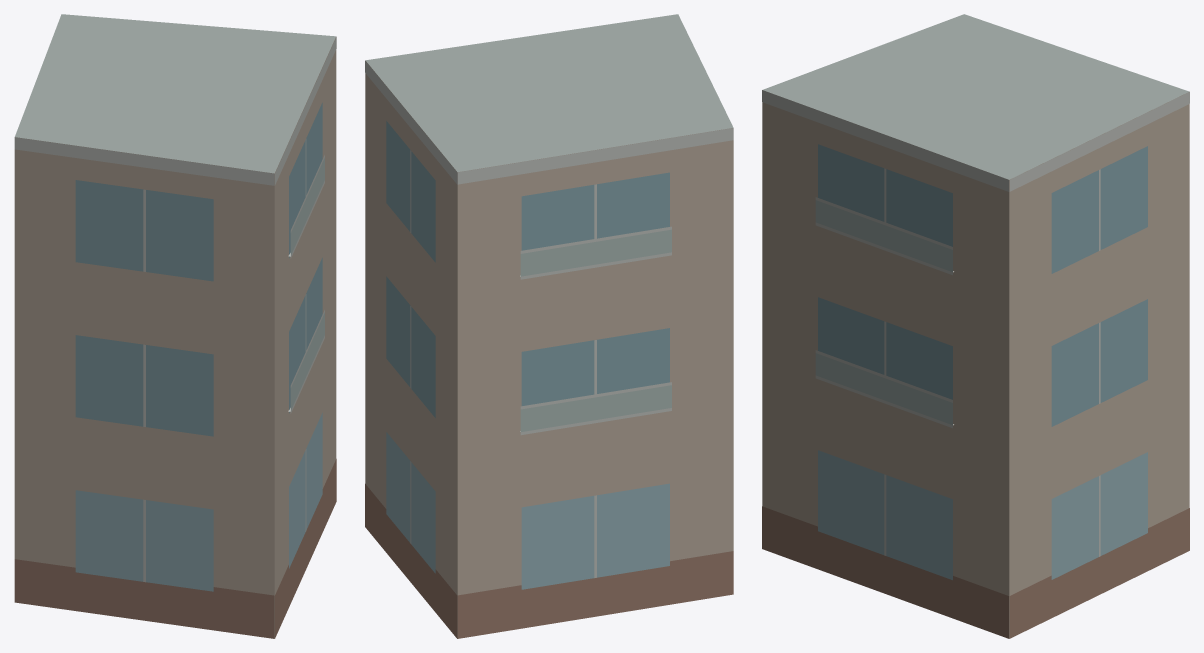
The model's file is survey-upis-32477107.glb.
3 views of the same model, side by side, from view 1: azimuth 30°, elevation 25°; view 2: azimuth 150°, elevation 25°; view 3: azimuth 270°, elevation 25° (orthographic).
Visible parts, largest first — view 1: survey-upis-32477107.tmp; view 2: survey-upis-32477107.tmp; view 3: survey-upis-32477107.tmp.
Part boxes in pixels (x1,y1,x2,y2): survey-upis-32477107.tmp: (14,14,336,638); survey-upis-32477107.tmp: (365,14,733,638); survey-upis-32477107.tmp: (762,14,1189,638).
Size of the model in its own units: 7.1 by 9.15 by 7.73.
